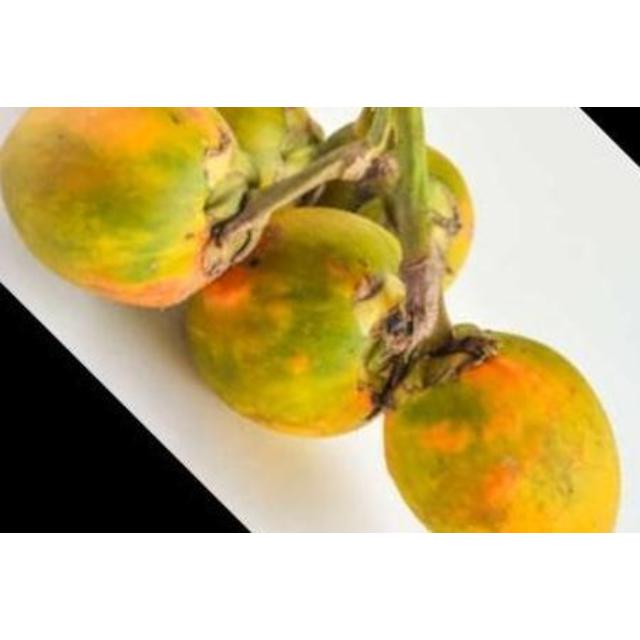good: (0, 107, 390, 312), (183, 207, 417, 441), (381, 329, 623, 532)
